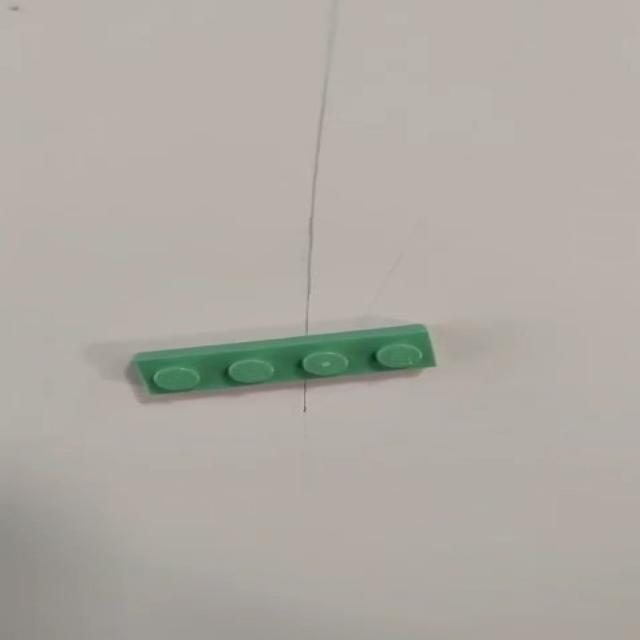C4x1x0: (108, 318, 426, 396)
